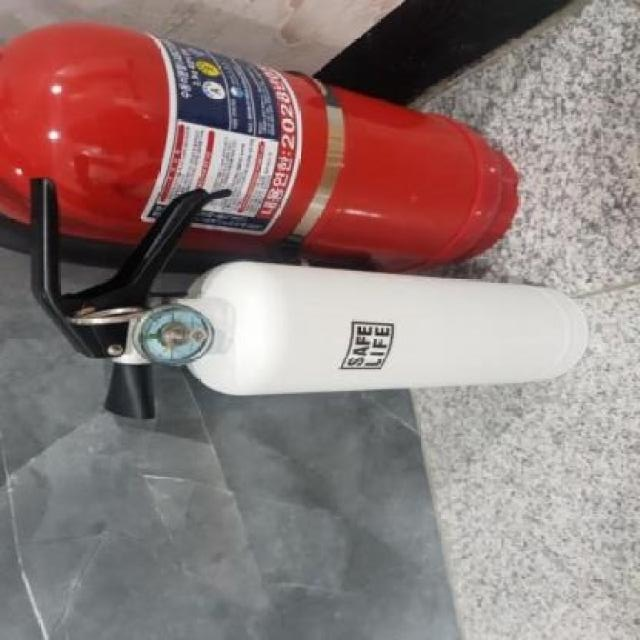fire extinguisher: (28, 177, 589, 421), (0, 23, 518, 266)
